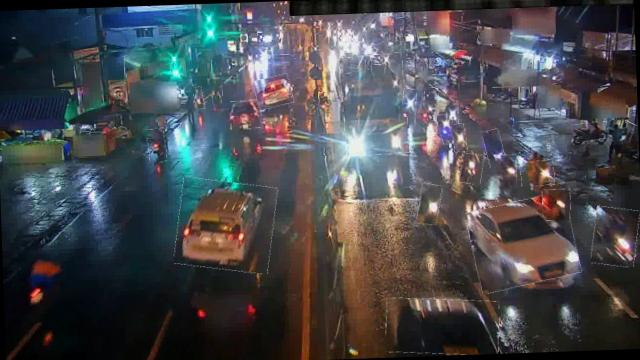Bike: (590, 206, 640, 268), (417, 183, 441, 225), (541, 188, 571, 221), (520, 160, 556, 187), (495, 154, 517, 194), (483, 129, 505, 168), (304, 84, 334, 112), (459, 152, 484, 184), (571, 121, 608, 142), (147, 128, 166, 163), (438, 114, 454, 146), (424, 87, 439, 117), (492, 87, 520, 102), (452, 124, 467, 152), (402, 89, 417, 117), (208, 79, 222, 104), (447, 100, 459, 126), (193, 87, 204, 109)
Car: (468, 195, 579, 291), (174, 177, 277, 274), (384, 296, 500, 358), (254, 75, 294, 108), (230, 99, 262, 130)
Truck: (341, 54, 408, 156)
